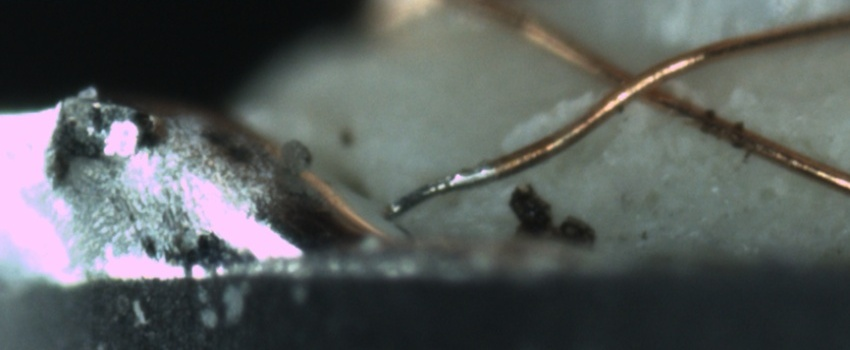CL: (584, 49, 682, 116)
TS: (384, 163, 494, 217)
TTCW: (388, 136, 547, 219)
